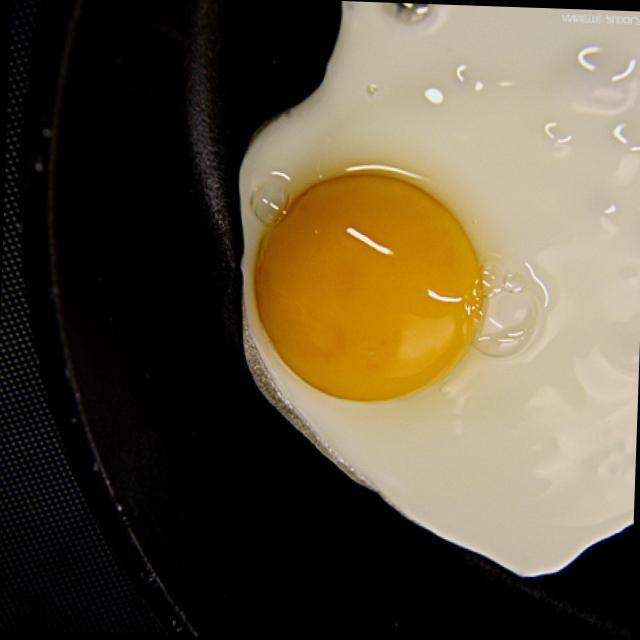Egg: (207, 0, 640, 593)
